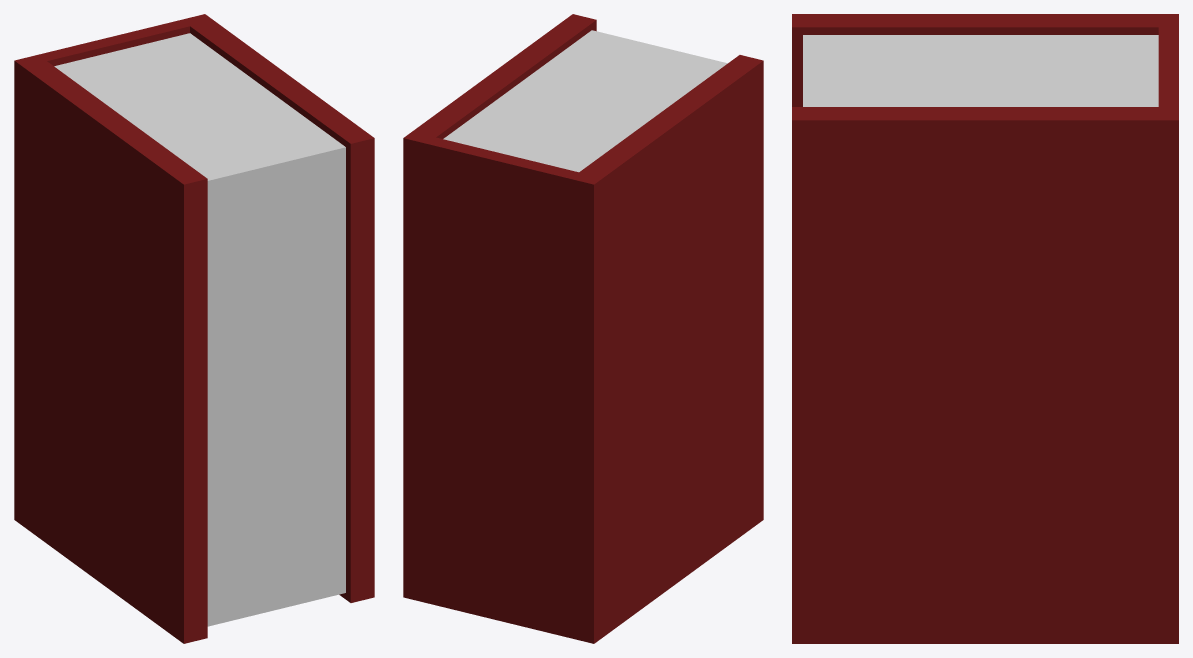
Rendered from book_6.fbx.
The picture shows the model from 3 angles, left to right: view 1: azimuth 30°, elevation 25°; view 2: azimuth 150°, elevation 25°; view 3: azimuth 270°, elevation 25°; orthographic projection. The views are drawn at different scales.
Parts seen in each view (by area): view 1: book_6; view 2: book_6; view 3: book_6.
Part boxes in pixels (box(x1,y1,x2,y2)): book_6: box(14, 14, 374, 643); book_6: box(403, 14, 763, 643); book_6: box(792, 14, 1178, 643).
Size of the model in its own units: 19.75 by 45.44 by 30.4.
